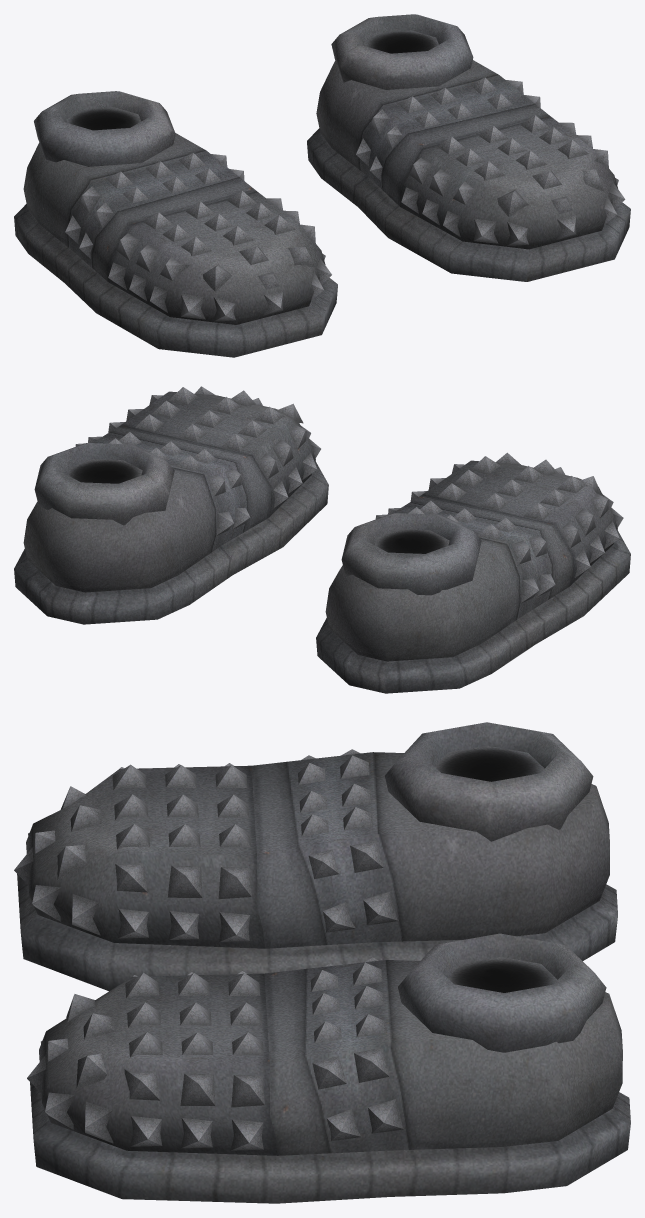
Rendered from Shoe_Knight.FBX.
3 renders of one model, top to bottom at view 1: azimuth 30°, elevation 25°; view 2: azimuth 150°, elevation 25°; view 3: azimuth 270°, elevation 25°, orthographic. The views are drawn at different scales.
Visible parts, largest first — view 1: Shoe_Knight_L, Shoe_Knigh_R; view 2: Shoe_Knight_L, Shoe_Knigh_R; view 3: Shoe_Knight_L, Shoe_Knigh_R.
Boxes of the visible parts, left/top/right/bottom form: Shoe_Knight_L: left=307, top=14, right=630, bottom=281; Shoe_Knigh_R: left=14, top=91, right=337, bottom=357; Shoe_Knight_L: left=14, top=386, right=328, bottom=624; Shoe_Knigh_R: left=316, top=452, right=630, bottom=693; Shoe_Knight_L: left=27, top=933, right=630, bottom=1203; Shoe_Knigh_R: left=14, top=722, right=617, bottom=991.
Size of the model in its own units: 186 by 45.18 by 141.
Materials: 1 (1 with a texture image).
